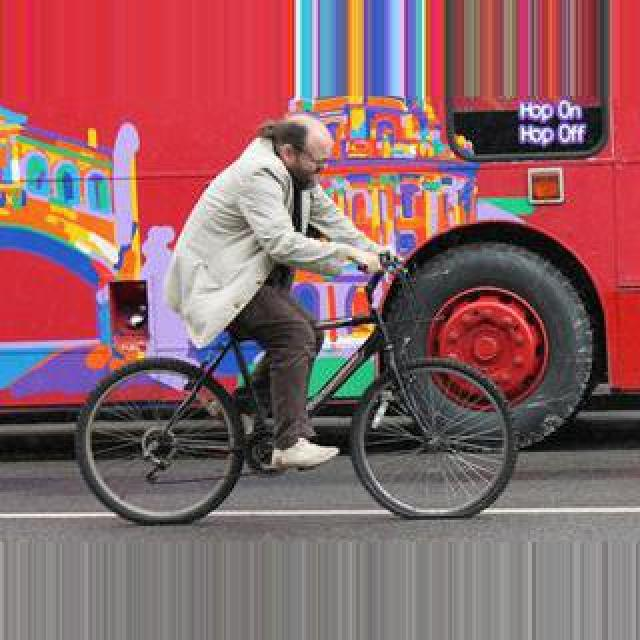MC-Bike: (170, 116, 390, 476)
Person: (72, 253, 532, 523)
